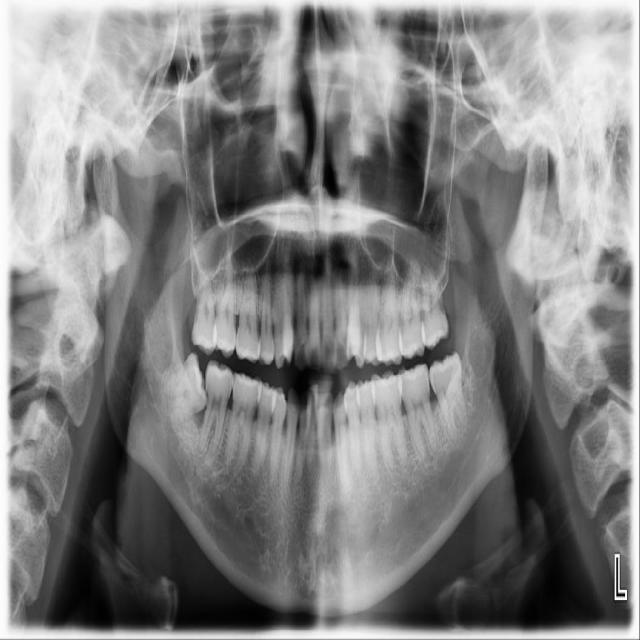impacted tooth: (159, 352, 209, 422), (430, 352, 466, 443)
